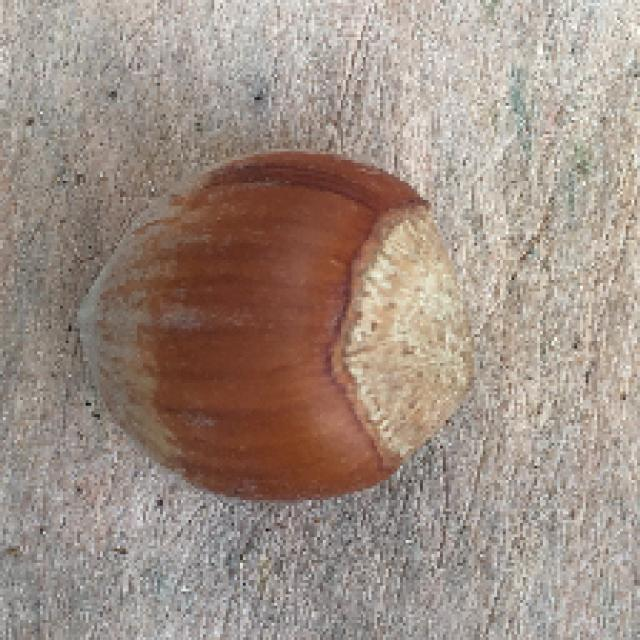QualityHazelnut: (75, 149, 470, 502)
